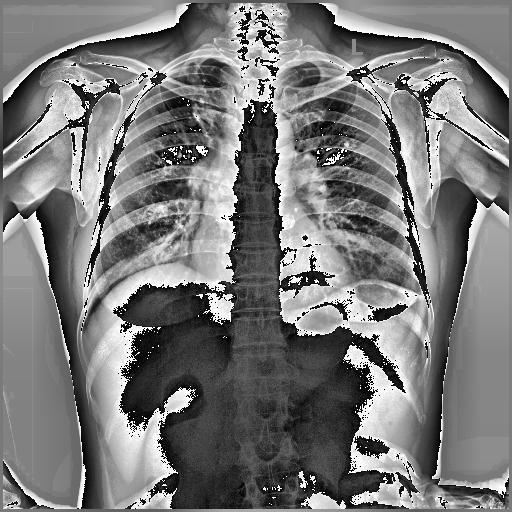13- Pulmonary fibrosis: (140, 64, 216, 178), (147, 63, 217, 182), (178, 62, 216, 138), (340, 105, 370, 170), (342, 142, 352, 147)
2- Calcification: (178, 62, 216, 138)
